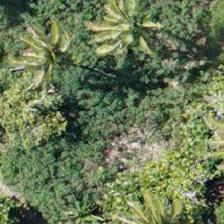coconut_tree: (0, 11, 85, 101), (78, 0, 168, 75)
